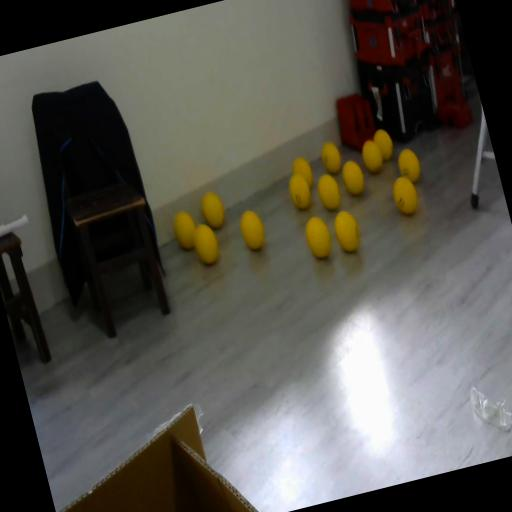FUEL: (300, 212, 336, 262), (330, 207, 364, 256), (188, 220, 222, 268), (236, 206, 270, 253), (388, 172, 422, 218), (197, 188, 228, 231), (170, 208, 200, 252), (338, 157, 368, 198), (314, 172, 344, 212), (394, 146, 423, 186), (288, 153, 316, 192), (358, 137, 386, 175), (318, 139, 344, 175), (370, 126, 396, 162)
